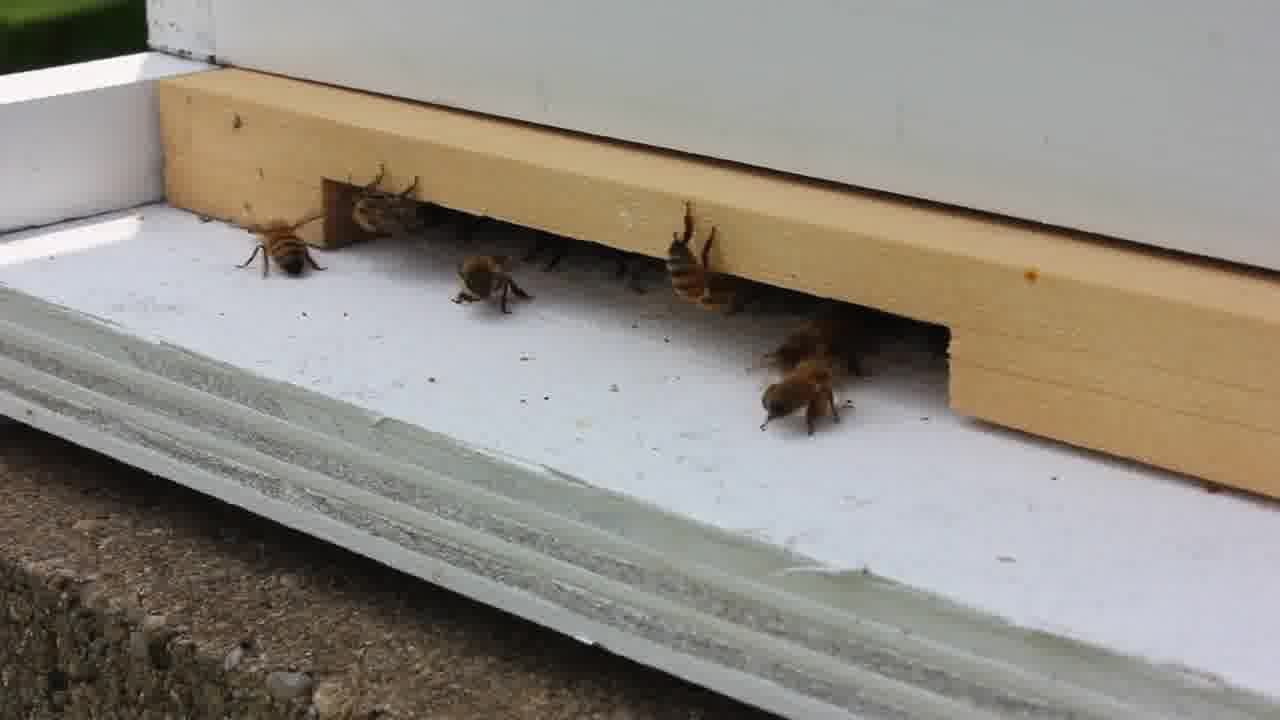pollen: (758, 360, 848, 439)
